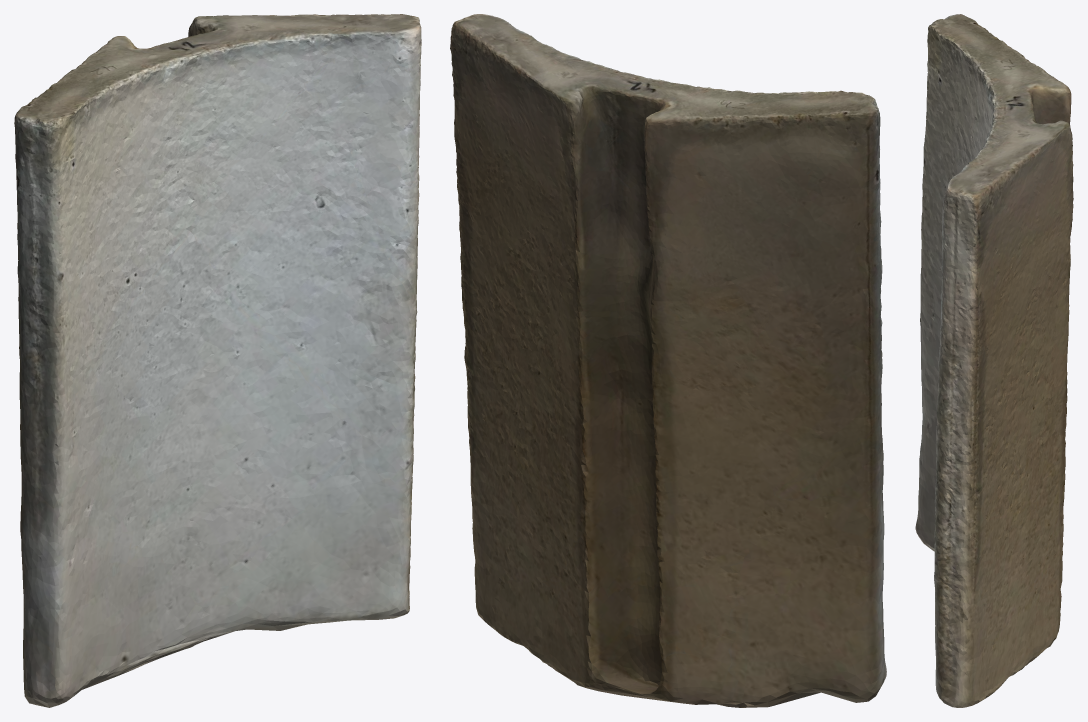
Rendered from Pixel 42.glb.
The picture shows the model from 3 angles, left to right: view 1: azimuth 30°, elevation 25°; view 2: azimuth 150°, elevation 25°; view 3: azimuth 270°, elevation 25°; orthographic projection. The views are drawn at different scales.
Bounding box in the file's own units: 0.1791 × 0.2498 × 0.0667.
1 material, 1 textured.
